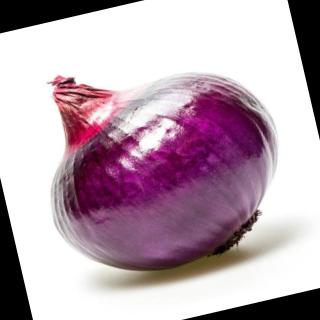Bawang Merah: (18, 27, 305, 296)
